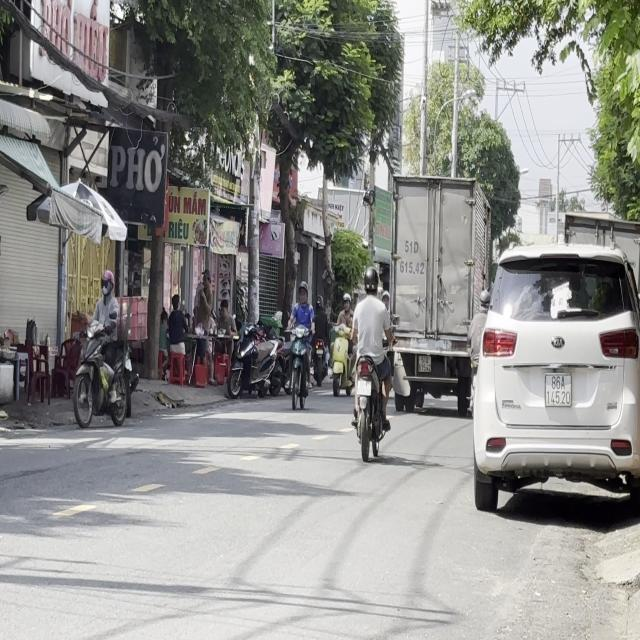helmet: (363, 266, 378, 295), (100, 268, 114, 297)
licenseplate: (73, 267, 130, 432), (348, 265, 394, 459)
nohelmet: (356, 379, 372, 396)
